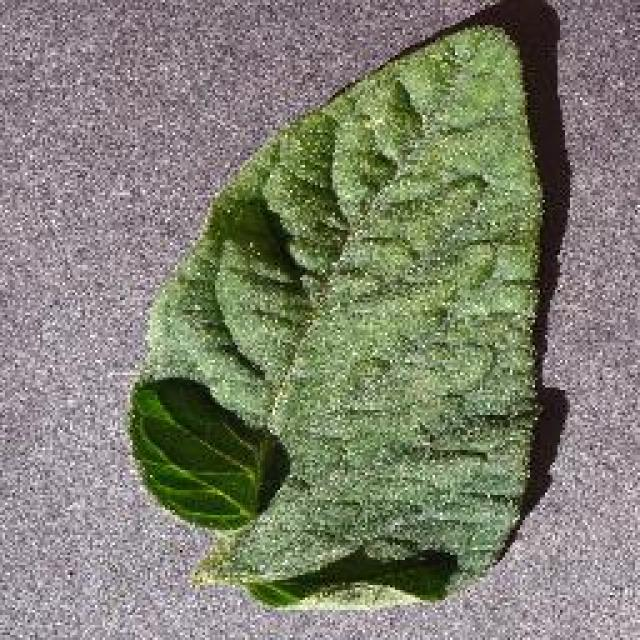Tomato_Healthy: (102, 30, 576, 605)
